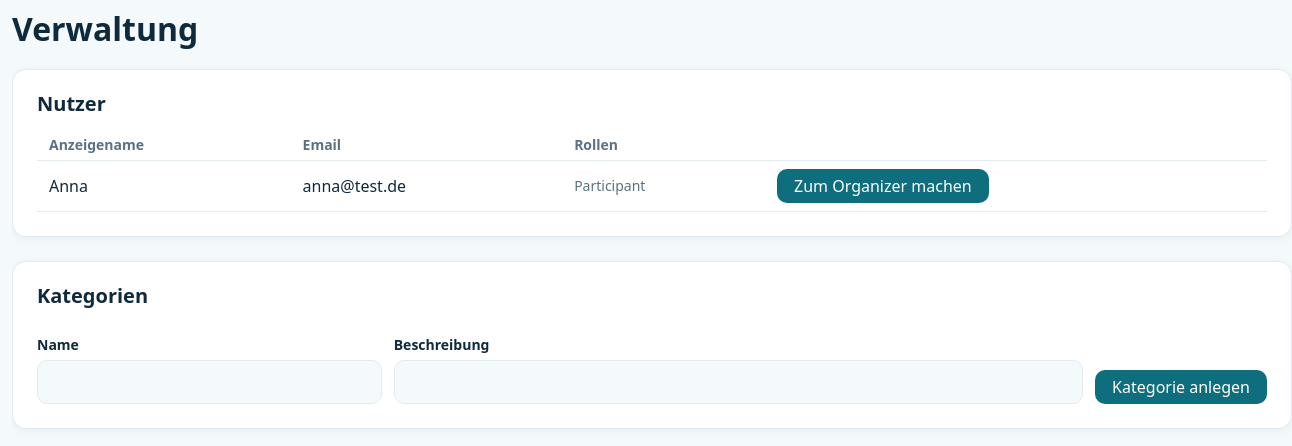
Test: AdminPage › grants the organizer role and shows the new state
Click the button "Zum Organizer machen" at [883, 186], box 777,169 -> 989,203
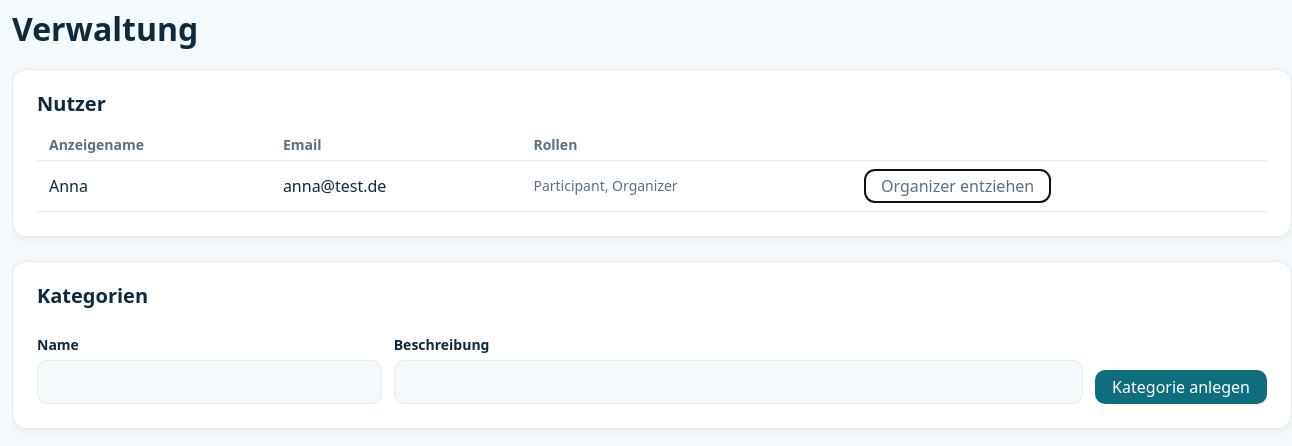
Expected: the button "Organizer entziehen" is shown, 864,169 -> 1051,203
